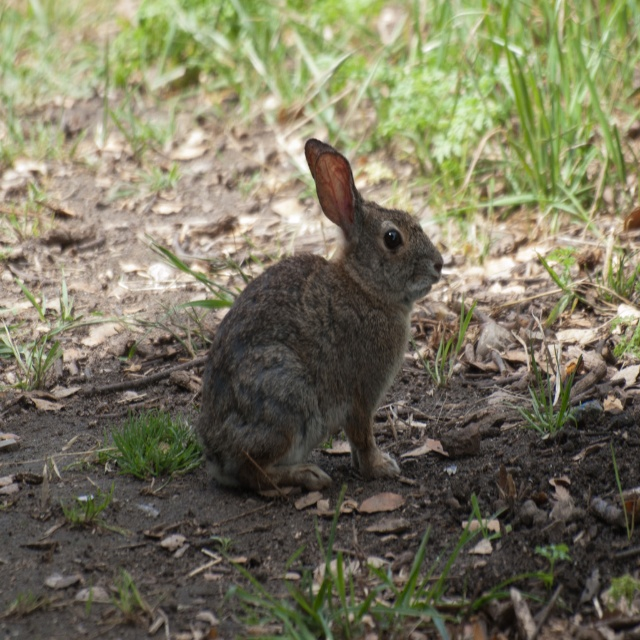Rabbit: (194, 137, 444, 491)
